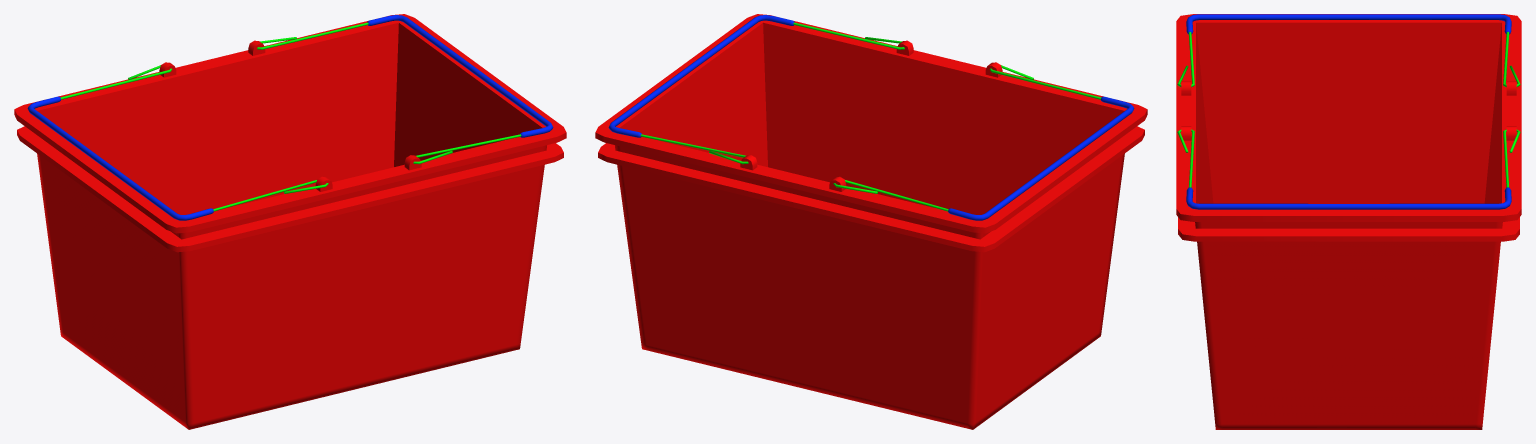
Rendered from Basket.FBX.
The picture shows the model from 3 angles, left to right: view 1: azimuth 30°, elevation 25°; view 2: azimuth 150°, elevation 25°; view 3: azimuth 270°, elevation 25°; orthographic projection. The views are drawn at different scales.
Visible parts, largest first — view 1: Basket; view 2: Basket; view 3: Basket.
Boxes of the visible parts, bbox=[...] form: Basket: bbox=[14, 14, 566, 429]; Basket: bbox=[595, 14, 1147, 429]; Basket: bbox=[1176, 14, 1521, 429].
Size of the model in its own units: 21.49 by 12 by 15.55.
